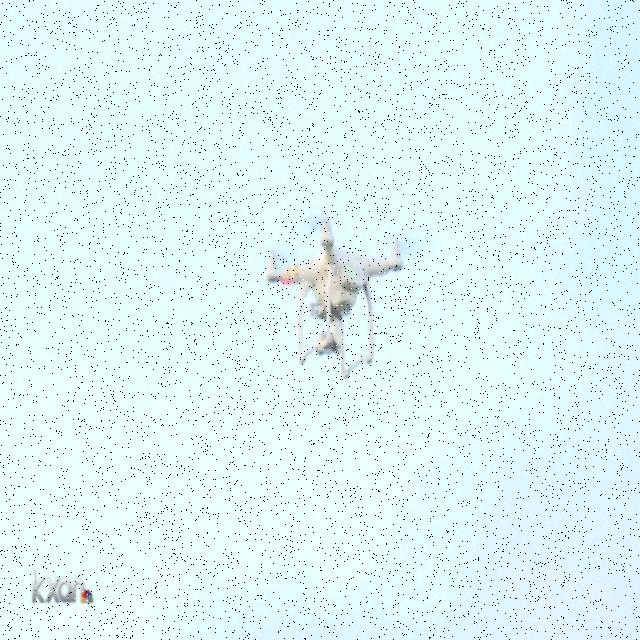UAV: (267, 212, 411, 380)
